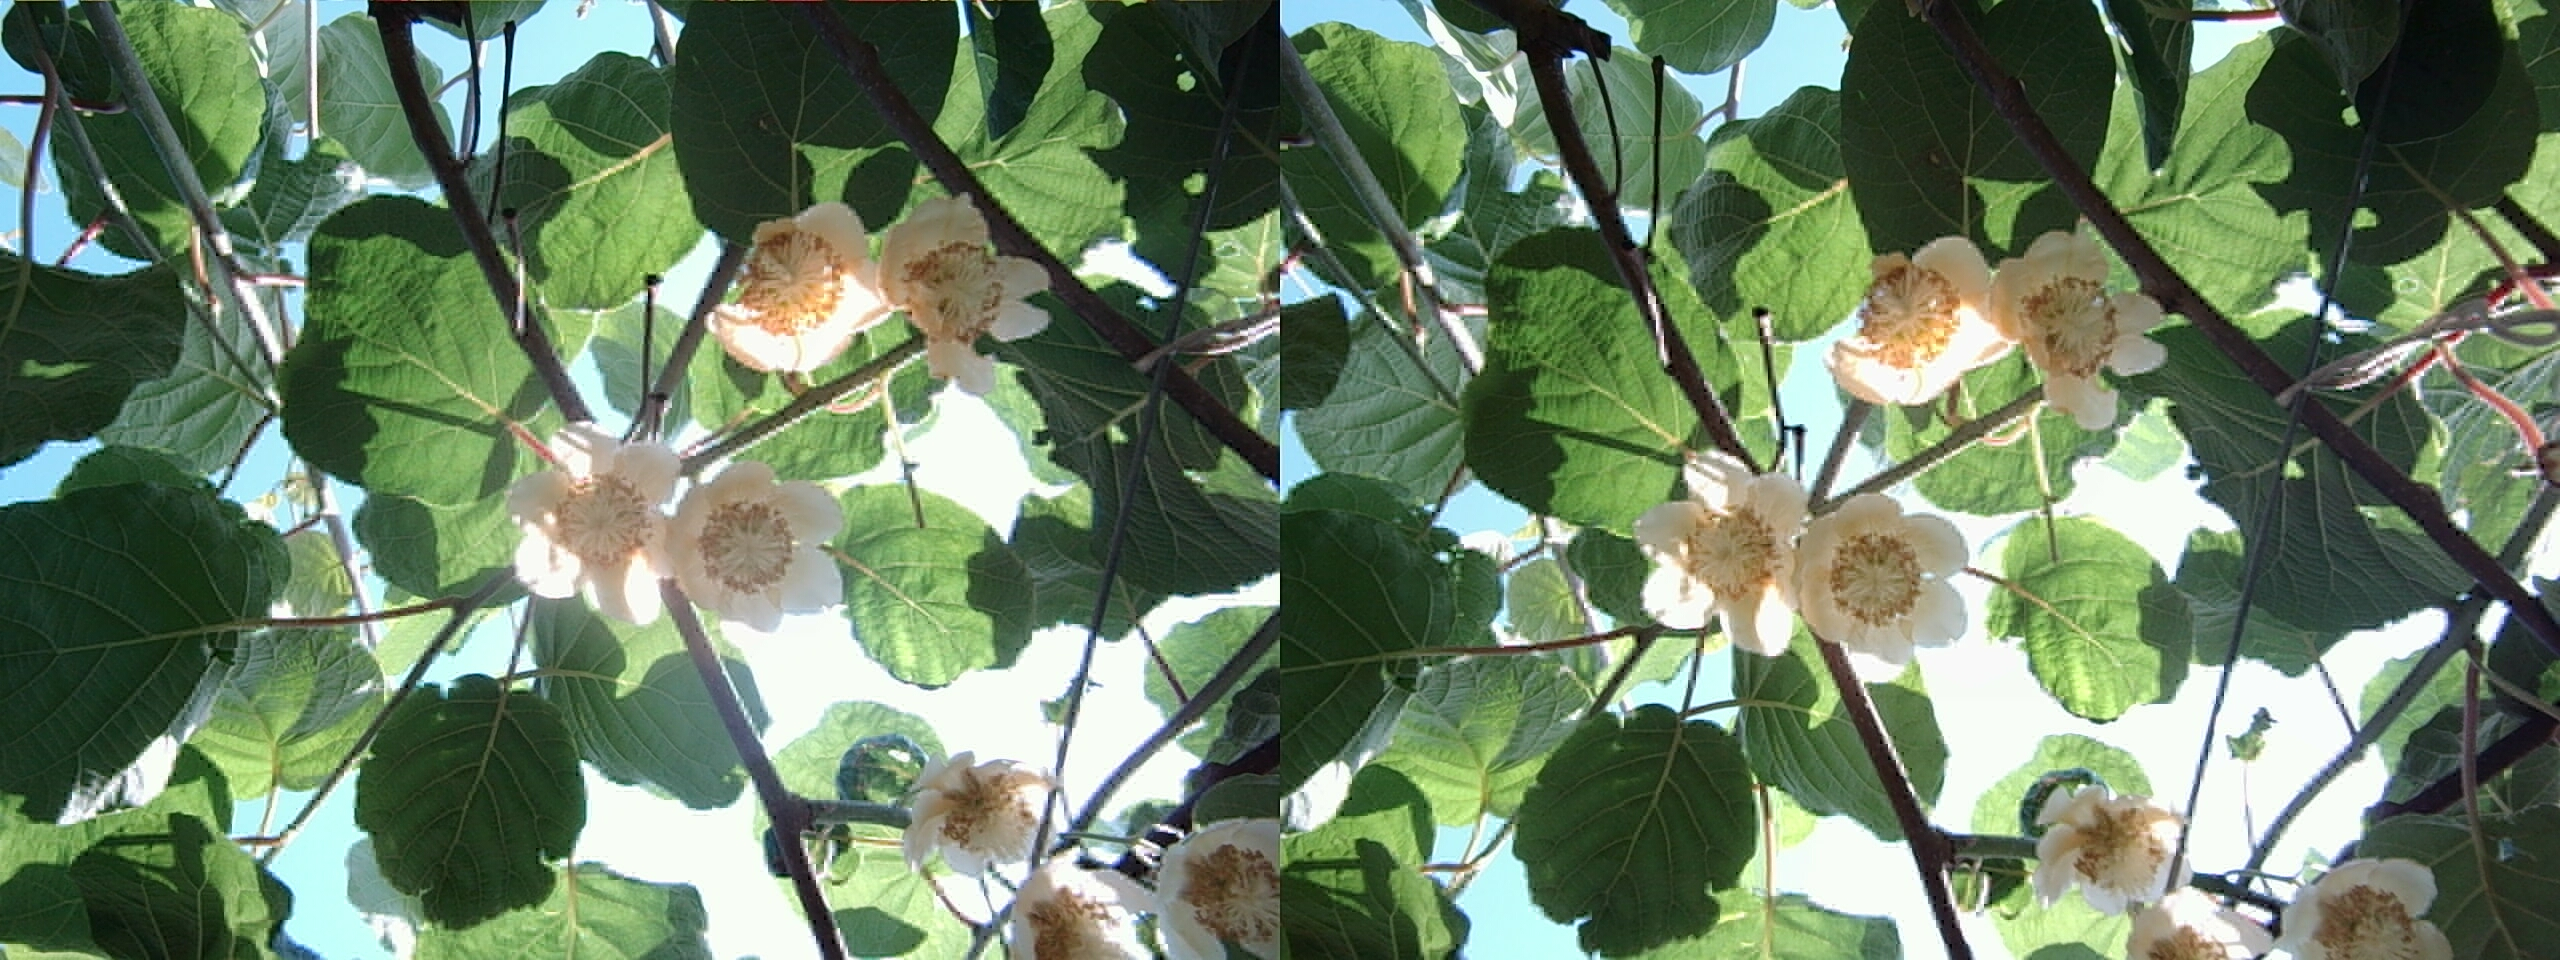flower: (495, 418, 697, 624), (1962, 235, 2171, 431), (1639, 446, 1816, 656), (860, 194, 1043, 397), (650, 454, 856, 630), (1783, 482, 1979, 664), (709, 199, 887, 377), (1827, 240, 2005, 411), (2003, 772, 2193, 926), (895, 751, 1060, 900)
